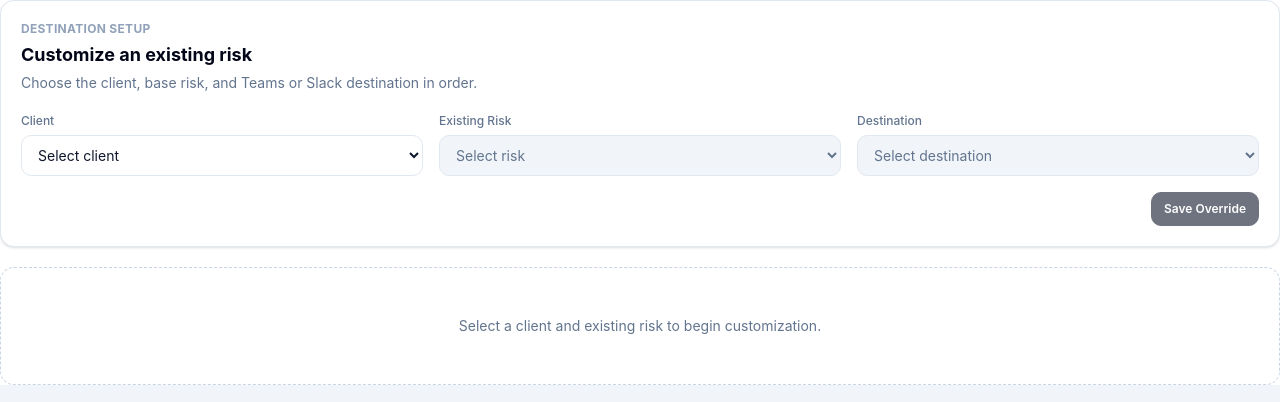
CustomizeExistingRisk › loads a builder-created full Risk V2 with empty destination overrides
Select "Acme" in the dropdown labelled "Client": (222, 156) [21,135,423,176]
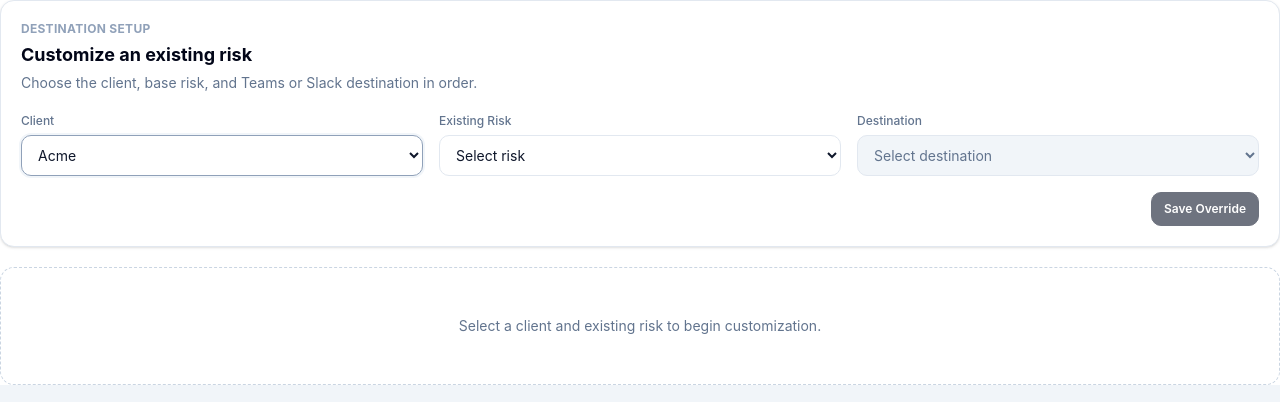
Select "INVENTORY REVENUE EXPOSURE · RSK-SPVC-YUXR · high" in the dropdown labelled "Existing Risk": (640, 156) [439,135,841,176]
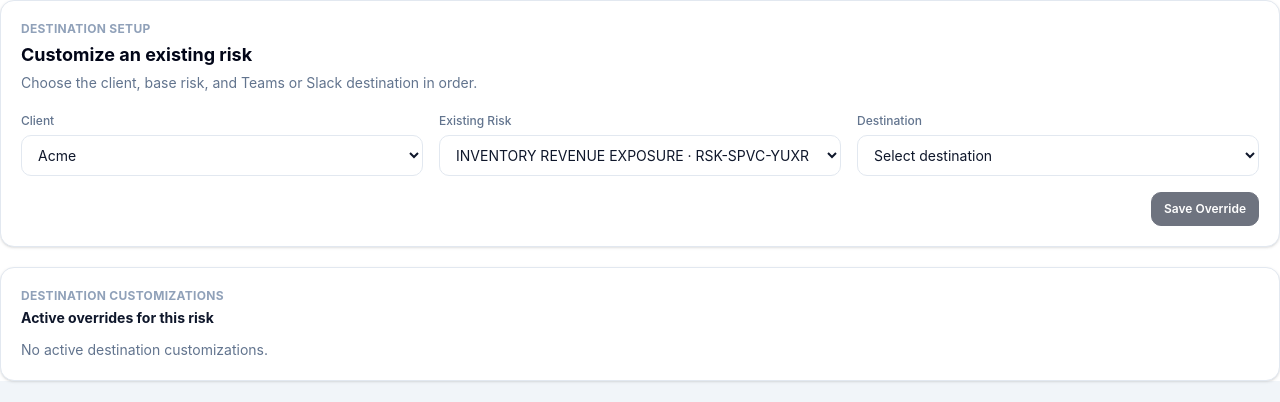
Check: the dropdown labelled "Destination" is enabled, box [857,135,1259,176]
Check: the text "No active destination customizations." is shown, box [21,341,268,358]
